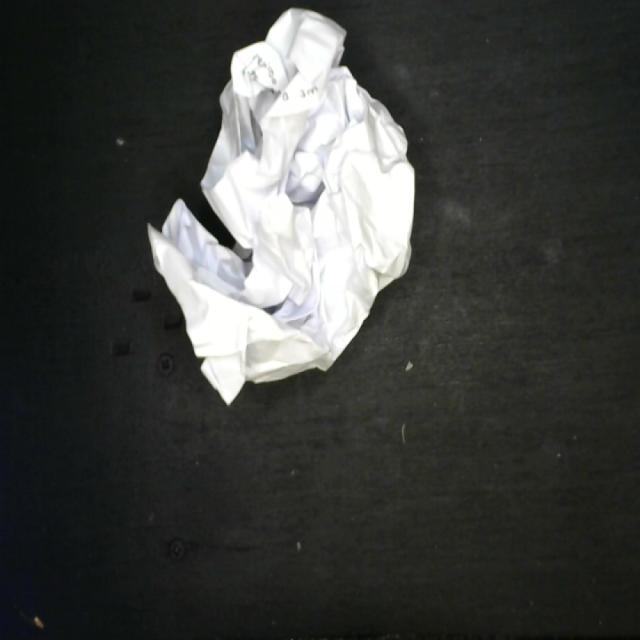biodegradable: (142, 3, 420, 410)
